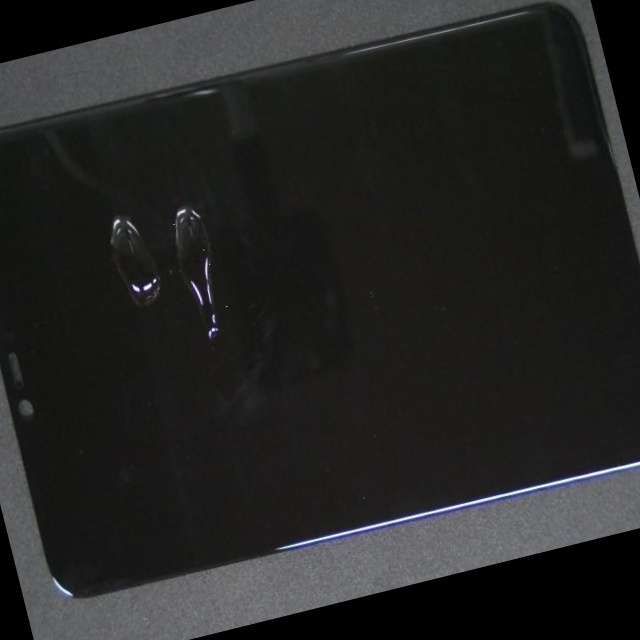oil: (11, 107, 337, 487), (0, 93, 233, 429)
